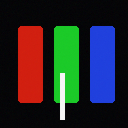4 line_v: (60, 73, 64, 119)
